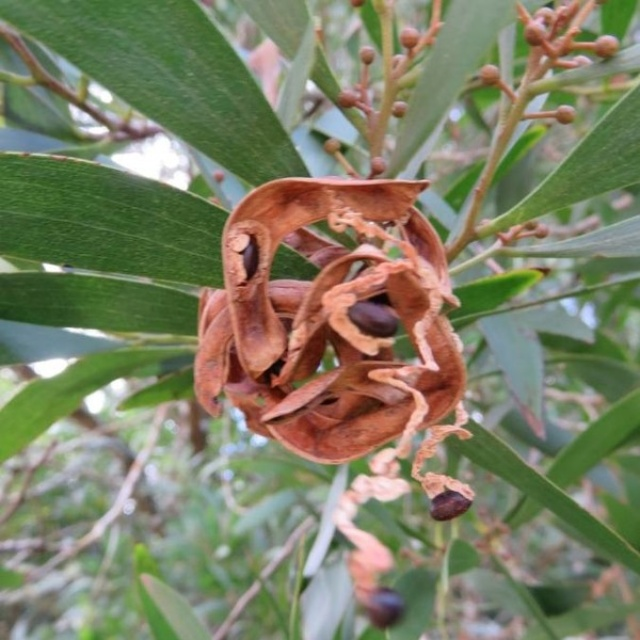obstacle: (36, 26, 541, 517)
